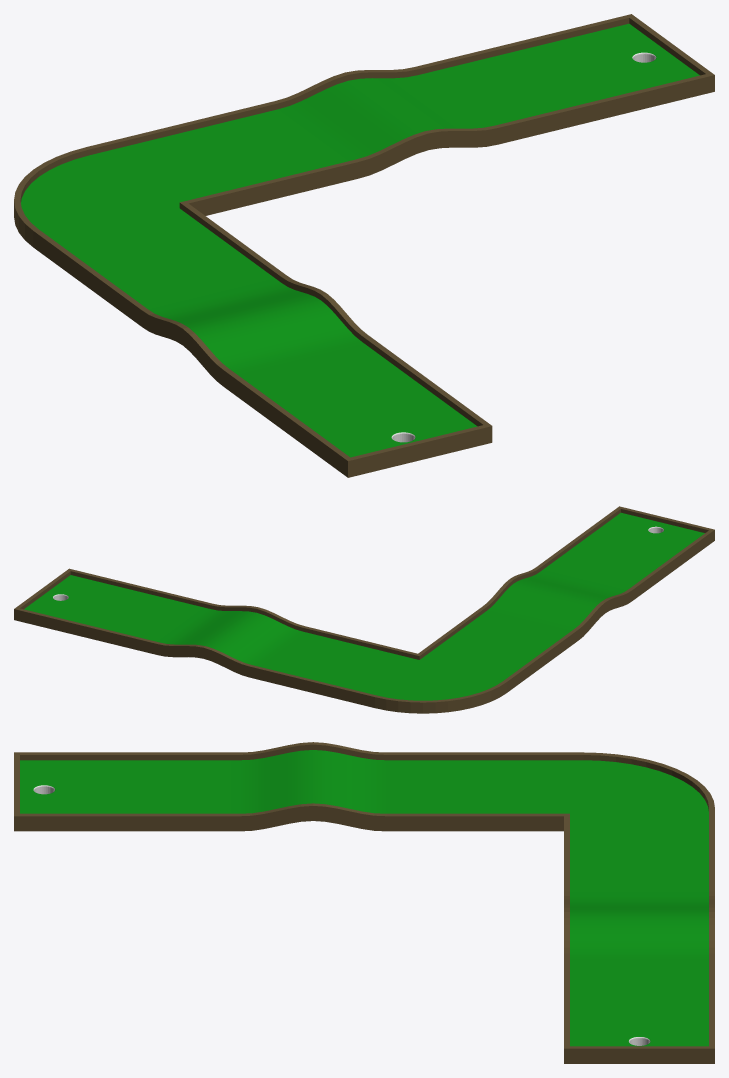
Rendered from course1.fbx.
3 views of the same model, one above another, from view 1: azimuth 30°, elevation 25°; view 2: azimuth 150°, elevation 25°; view 3: azimuth 270°, elevation 25° (orthographic). The views are drawn at different scales.
Parts seen in each view (by area): view 1: Ground, Course1; view 2: Ground, Course1; view 3: Ground, Course1.
Boxes of the visible parts, x1,y1,x2,y2 form: Ground: [21, 23, 699, 457]; Course1: [14, 14, 714, 477]; Ground: [24, 512, 704, 700]; Course1: [14, 506, 714, 713]; Ground: [20, 750, 708, 1046]; Course1: [14, 742, 714, 1063].
Size of what is drawn, in the model's own units: 5038 by 202 by 5038.
